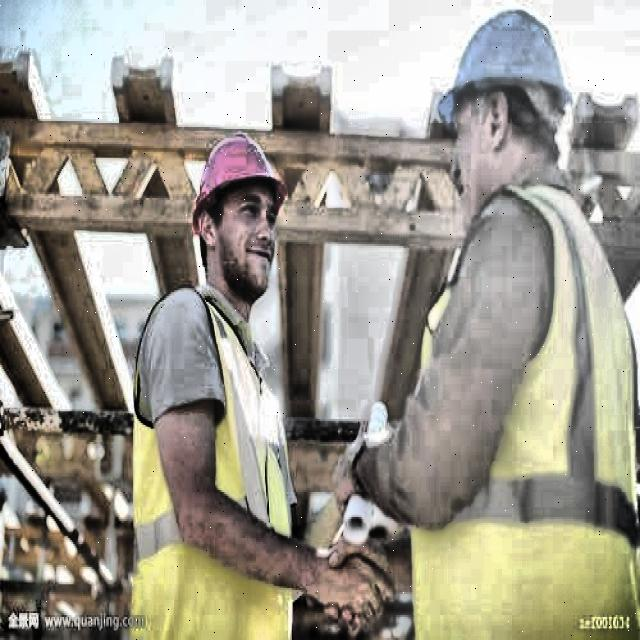helmet: (427, 0, 592, 254), (183, 120, 293, 306)
